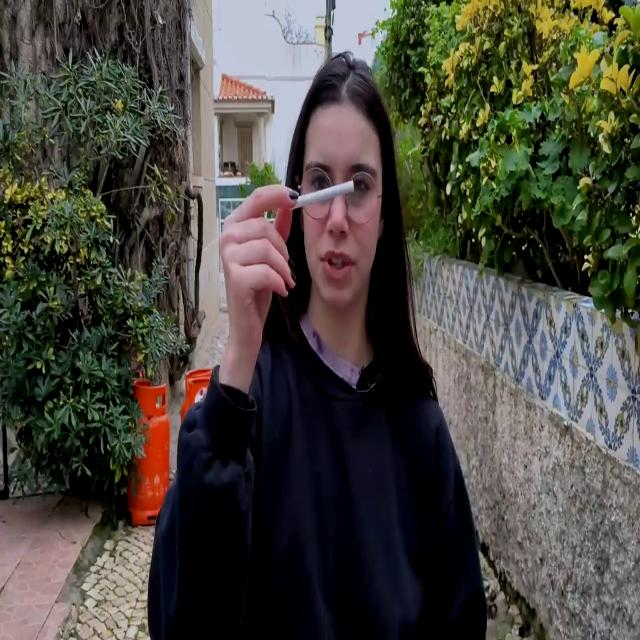Smooking: (294, 176, 369, 220)
